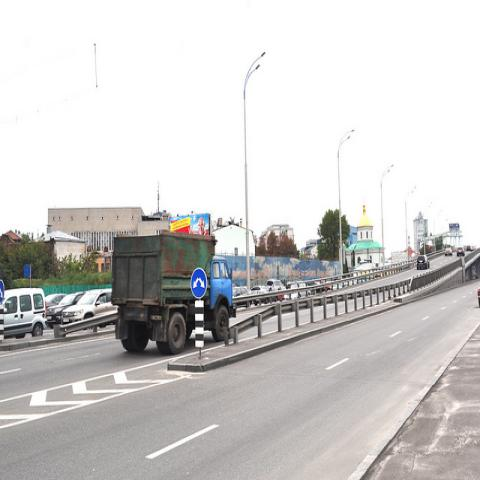car: (103, 227, 453, 355), (4, 285, 48, 340), (61, 288, 118, 325), (47, 293, 82, 328), (45, 294, 67, 320), (253, 286, 279, 307), (310, 282, 333, 295), (416, 255, 431, 269), (232, 287, 251, 298), (266, 280, 286, 290), (250, 286, 261, 297), (455, 247, 466, 254), (306, 281, 318, 287), (466, 245, 472, 252)
truck: (111, 230, 236, 354)
